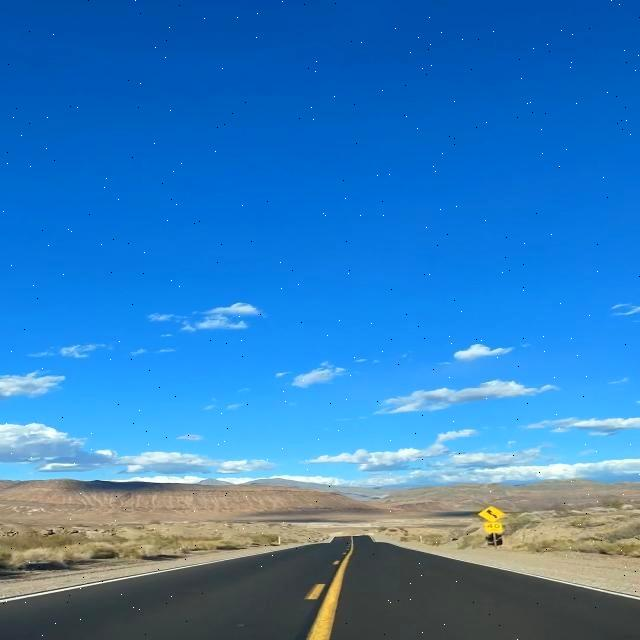lane: (306, 536, 354, 639), (305, 584, 324, 600)
road: (0, 536, 639, 639)
